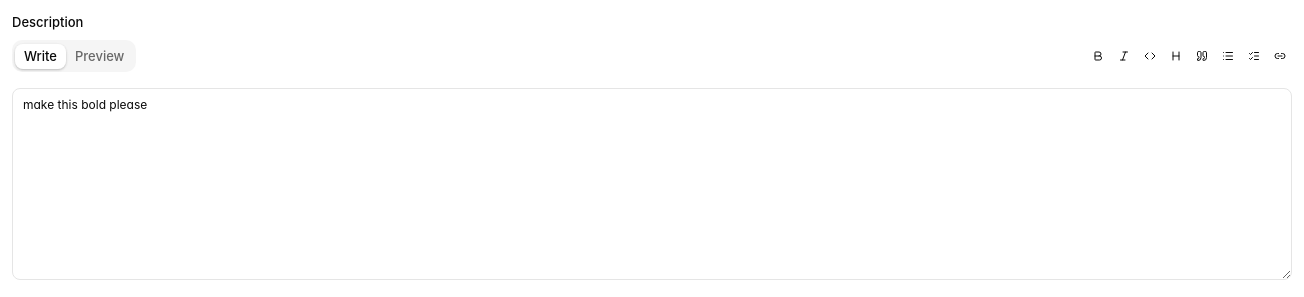
it: MarkdownField toolbar › wraps the selection rather than replacing it
This screenshot has width=1304, height=297.
Click the button named "Bold": (1098, 56) x1=1086 y1=44 x2=1110 y2=68
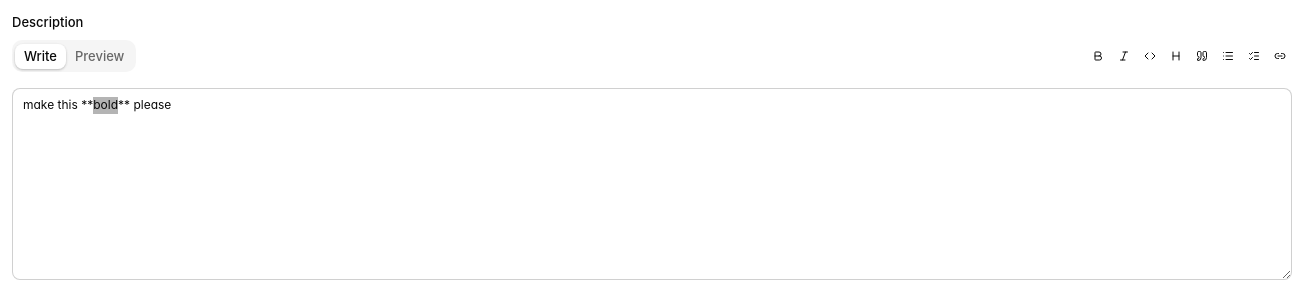
Expected: the text box named "Description" holds "make this **bold** please"
